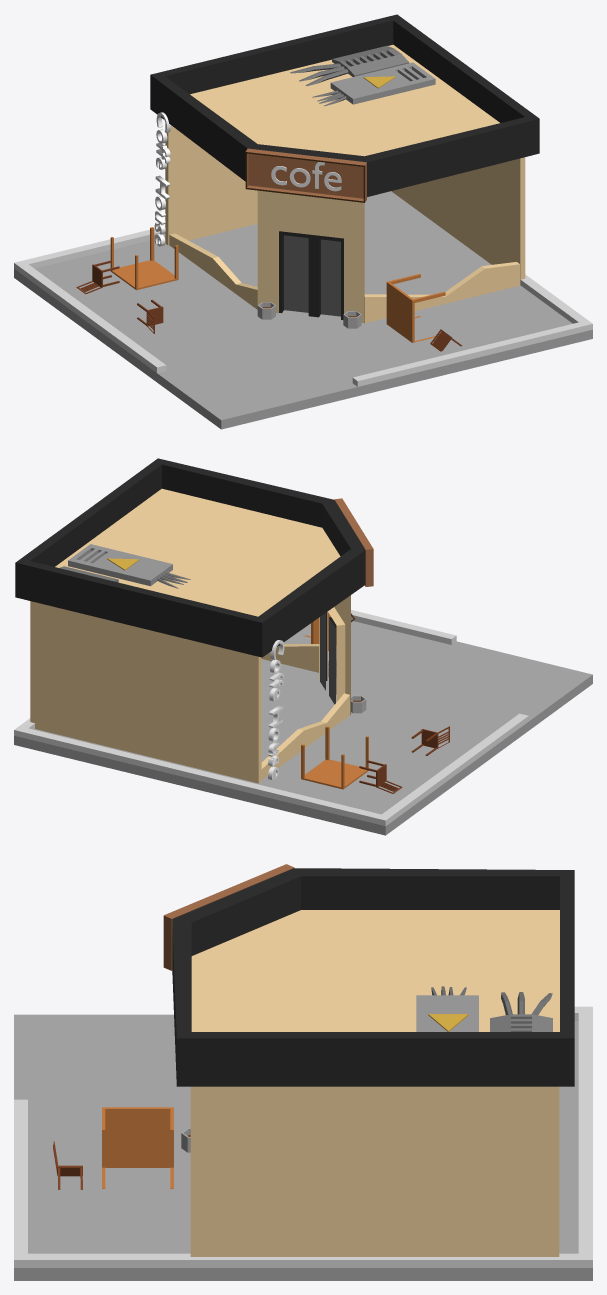
3 renders of one model, top to bottom at view 1: azimuth 30°, elevation 25°; view 2: azimuth 150°, elevation 25°; view 3: azimuth 270°, elevation 25°, orthographic. The views are drawn at different scales.
Parts seen in each view (by area): view 1: Plane.007, Cube, Plane.005, Plane.004, Cube.035, Plane.001, Cube.008, Plane, Plane.003, Plane.006, Cube.007, Text.001 (+1 smaller); view 2: Cube, Plane.007, Plane.004, Cube.008, Plane, Plane.003, Text.001, Plane.001, Cube.035; view 3: Cube, Plane.005, Plane.007, Plane.006, Cube.008, Plane.004, Cube.035, Cube.007.
Boxes of the visible parts, <box> form: Plane.007: <box>14,191,592,429</box>; Cube: <box>150,14,539,322</box>; Plane.005: <box>391,157,525,285</box>; Plane.004: <box>165,124,257,245</box>; Cube.035: <box>245,148,366,202</box>; Plane.001: <box>364,262,519,323</box>; Cube.008: <box>330,62,435,104</box>; Plane: <box>169,233,257,309</box>; Plane.003: <box>110,227,178,290</box>; Plane.006: <box>386,273,445,342</box>; Cube.007: <box>332,45,409,76</box>; Text.001: <box>154,112,170,246</box>; Cube: <box>15,458,365,715</box>; Plane.007: <box>14,610,592,835</box>; Plane.004: <box>30,601,261,783</box>; Cube.008: <box>68,544,172,586</box>; Plane: <box>261,693,349,779</box>; Plane.003: <box>301,726,368,789</box>; Text.001: <box>268,640,284,780</box>; Plane.001: <box>261,644,319,672</box>; Cube.035: <box>334,498,373,586</box>; Cube: <box>172,868,574,1086</box>; Plane.005: <box>190,1086,550,1256</box>; Plane.007: <box>14,1006,592,1280</box>; Plane.006: <box>102,1107,173,1188</box>; Cube.008: <box>416,995,478,1031</box>; Plane.004: <box>551,1086,559,1256</box>; Cube.035: <box>163,864,294,970</box>; Cube.007: <box>490,1014,552,1031</box>.
Size of the model in its own units: 825 by 370 by 786.
